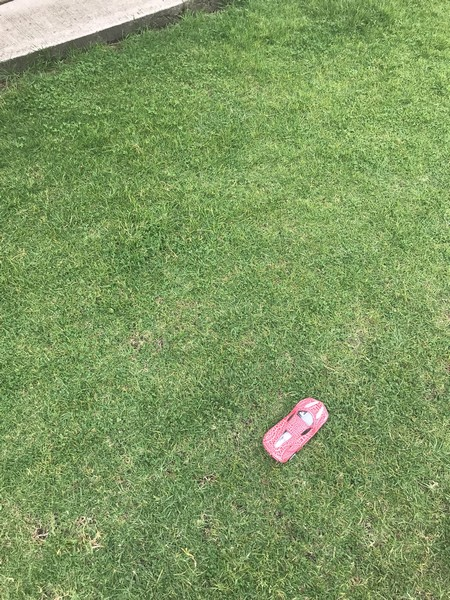RC: (261, 396, 331, 464)
